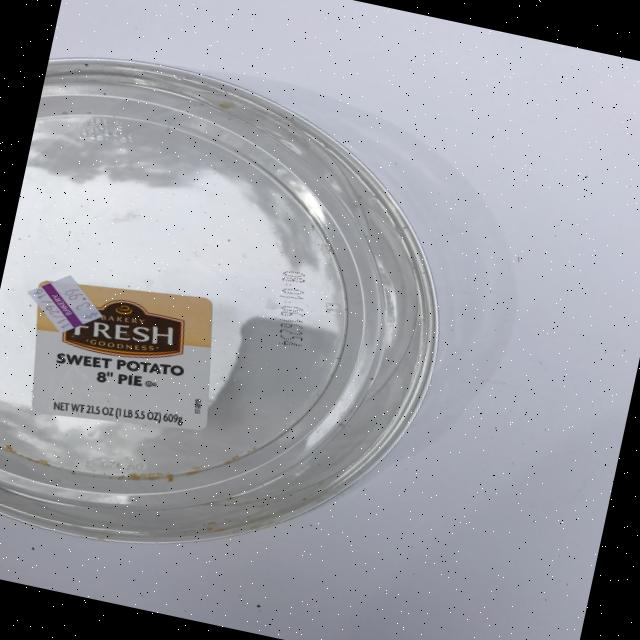plastic: (0, 40, 483, 601)
